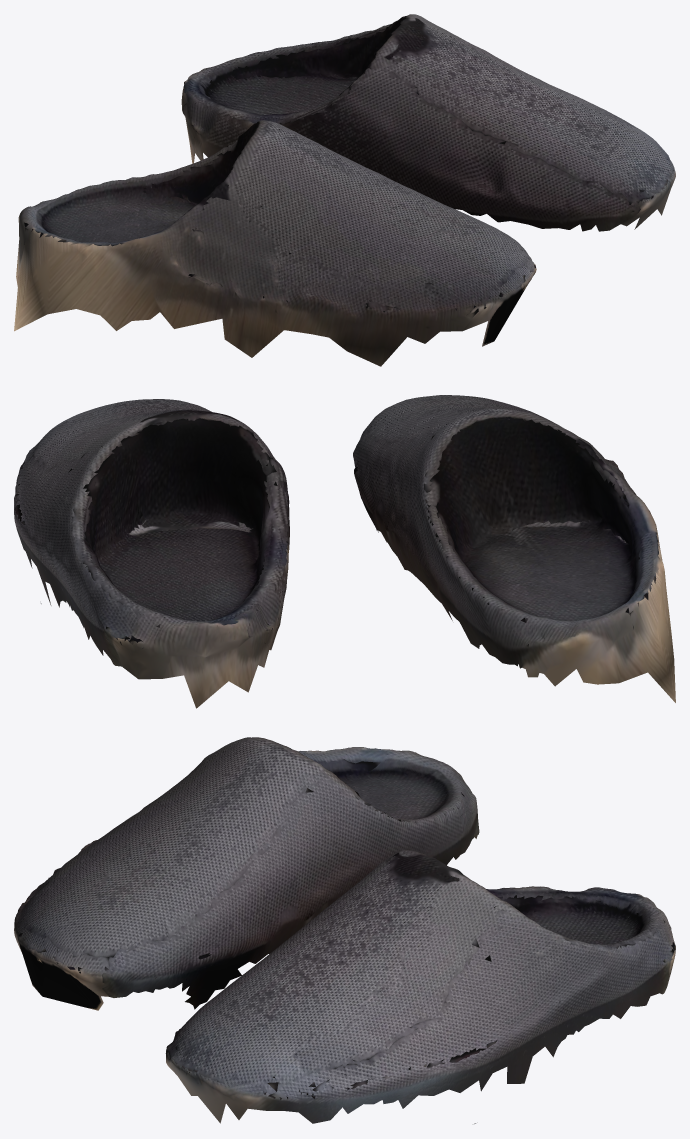
File: hall_slippers.glb
3 views of the same model, one above another, from view 1: azimuth 30°, elevation 25°; view 2: azimuth 150°, elevation 25°; view 3: azimuth 270°, elevation 25° (orthographic). The views are drawn at different scales.
Parts seen in each view (by area): view 1: scan; view 2: scan; view 3: scan.
Part boxes in pixels (x1=…): scan: x1=14, y1=14, x2=675, y2=366; scan: x1=14, y1=395, x2=675, y2=708; scan: x1=14, y1=737, x2=675, y2=1123.
Bounding box in the file's own units: 0.3852 × 0.1113 × 0.3263.
Materials: 1 (1 with a texture image).
